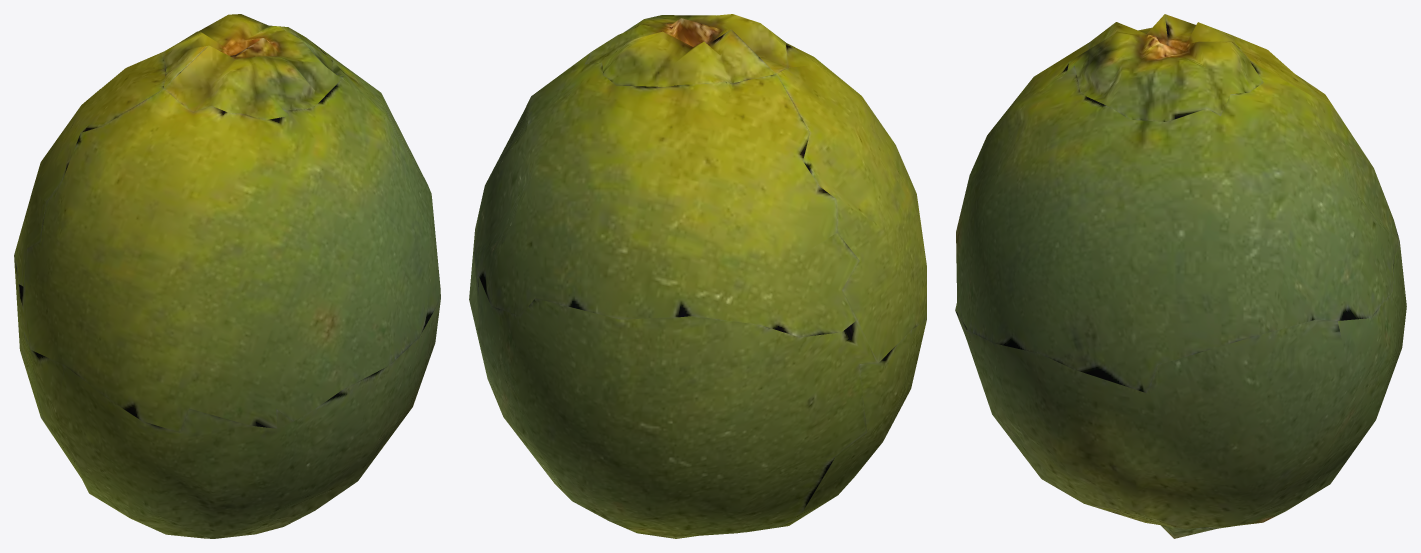
Rendered from food_lime_01.glb.
3 renders of one model, left to right at view 1: azimuth 30°, elevation 25°; view 2: azimuth 150°, elevation 25°; view 3: azimuth 270°, elevation 25°, orthographic.
Visible parts, largest first — view 1: food_lime_01; view 2: food_lime_01; view 3: food_lime_01.
Part boxes in pixels (bbox=[...]): food_lime_01: bbox=[14, 14, 440, 538]; food_lime_01: bbox=[469, 14, 926, 538]; food_lime_01: bbox=[955, 14, 1406, 538].
Bounding box in the file's own units: 0.0593 × 0.0751 × 0.0608.
1 material, 1 textured.
